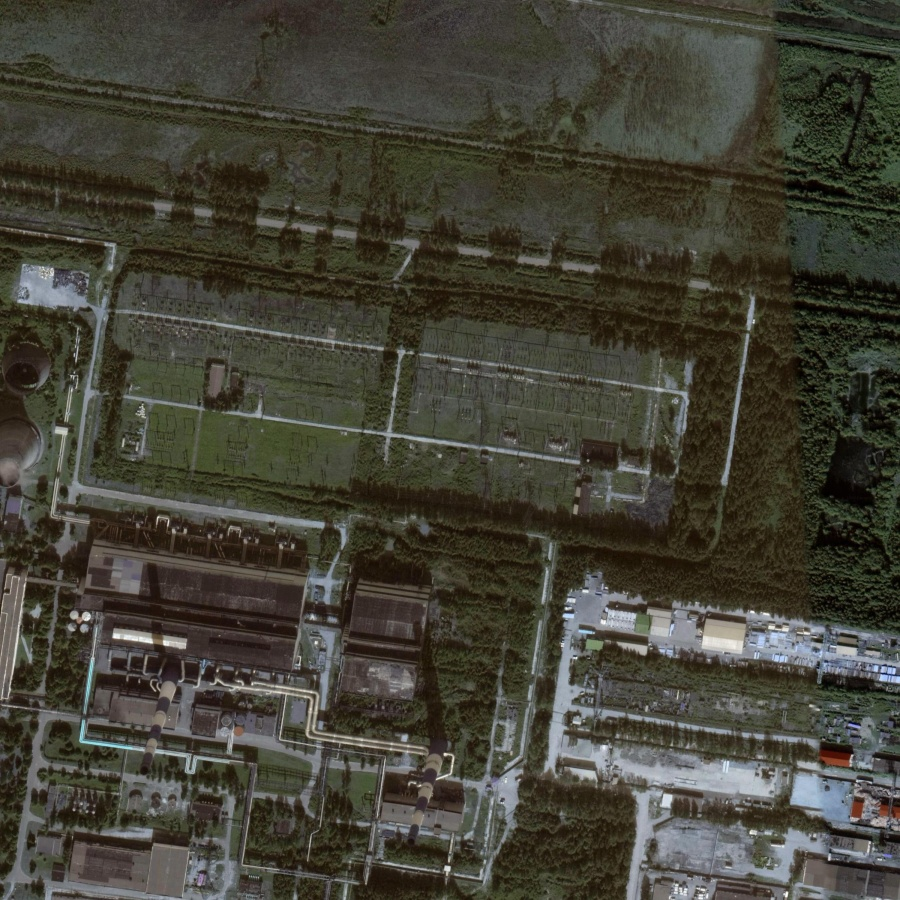PowerPlant: (93, 542, 451, 862)
